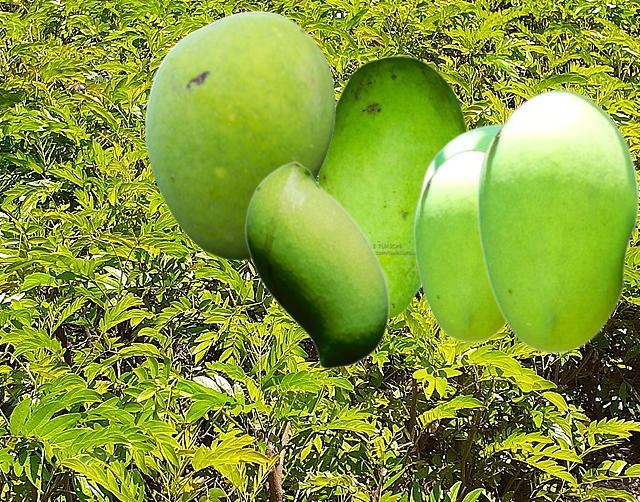green_mango: (144, 10, 334, 259), (476, 88, 638, 352), (318, 55, 467, 319), (244, 160, 388, 368), (413, 148, 505, 341), (419, 123, 501, 192)
